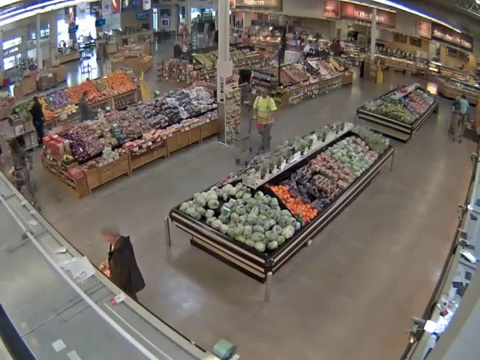face: (102, 228, 111, 242), (260, 89, 268, 98)
